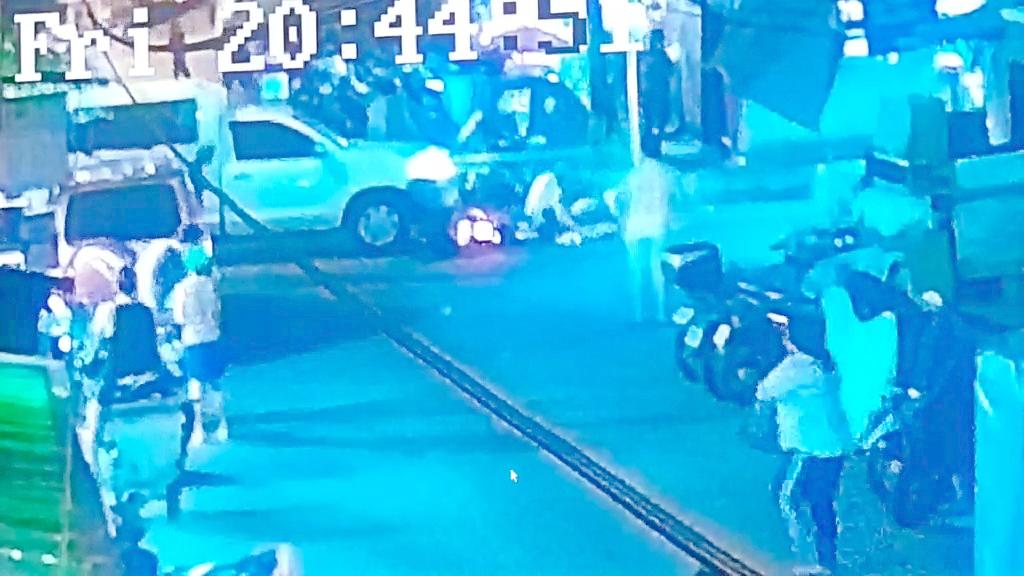Car: (15, 66, 467, 269), (46, 142, 269, 358)
Major Accident: (43, 41, 633, 267)
Motor: (673, 202, 882, 394), (424, 134, 617, 259)
